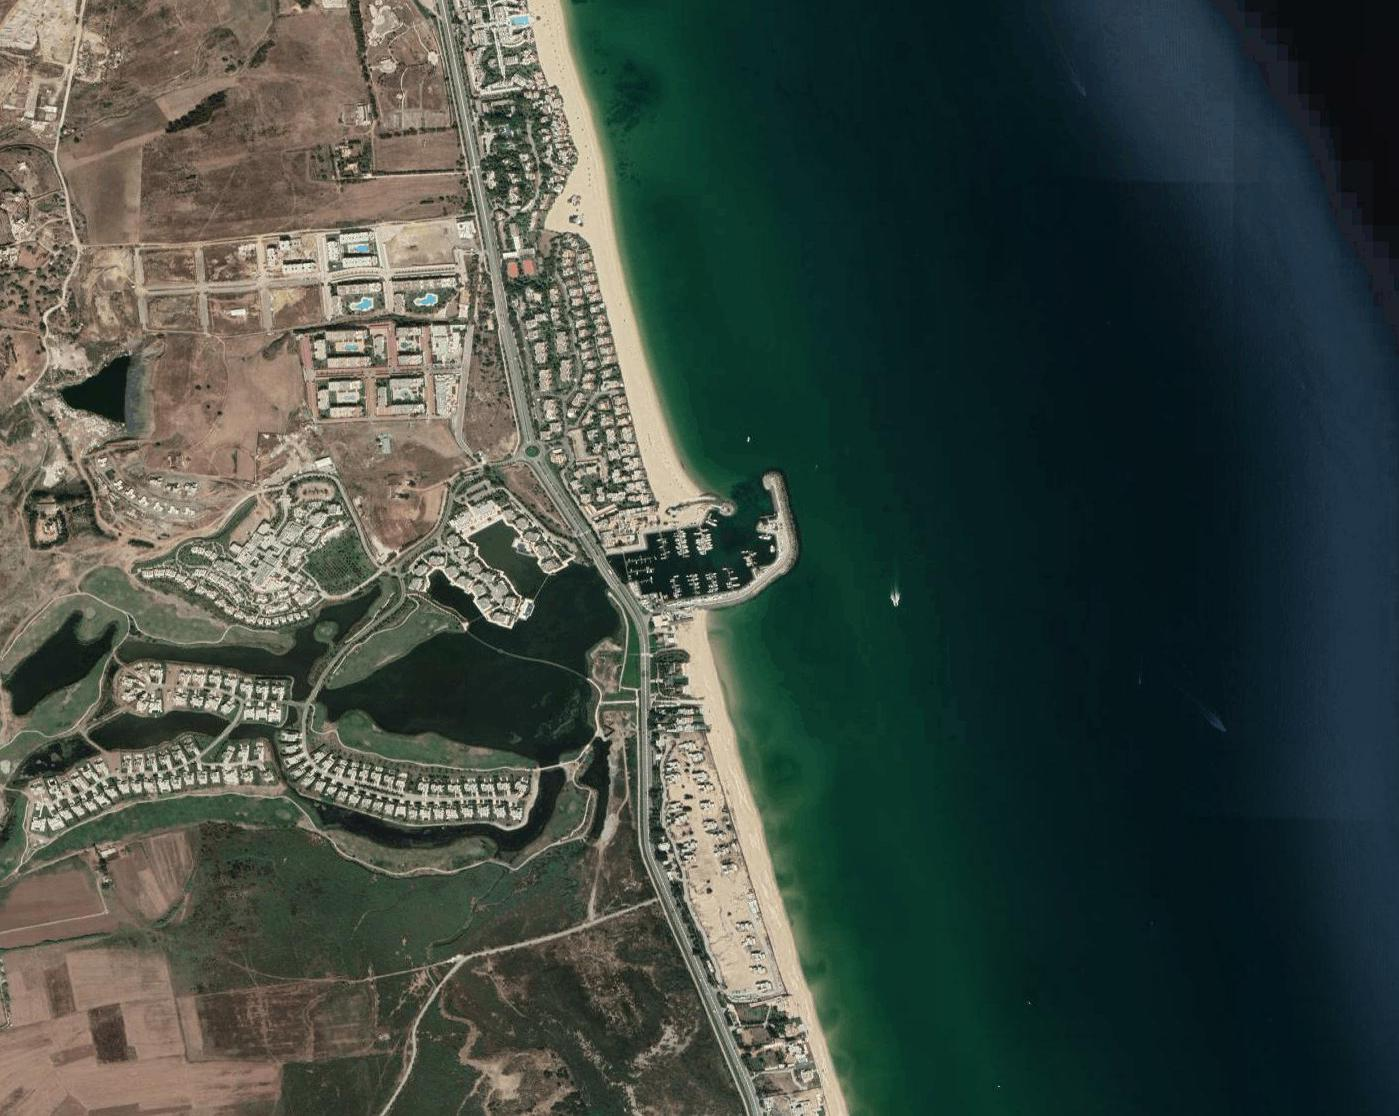harbor: (590, 453, 801, 619)
